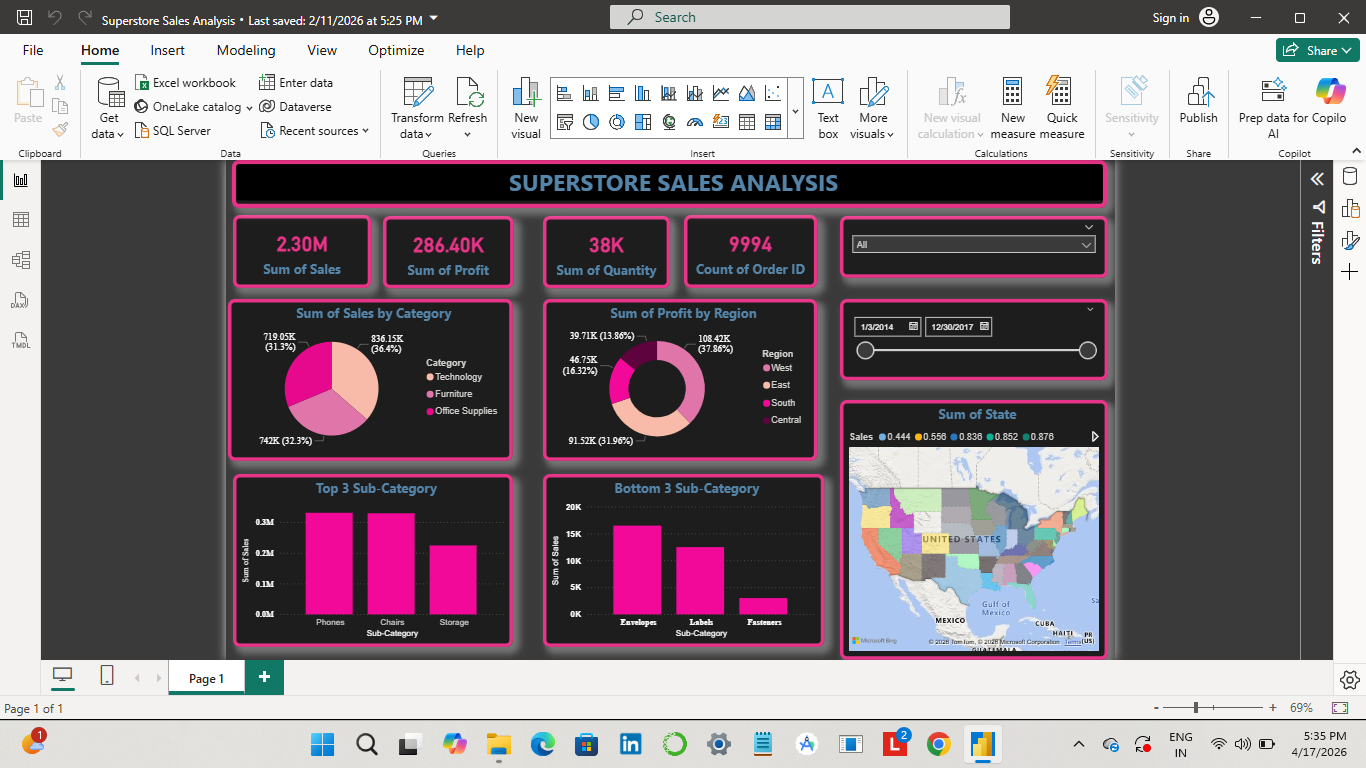

The page's visual inventory and layout, read from the dashboard file:
{"tool":"powerbi","page":{"name":"Page 1","canvas":[1280,720],"ordinal":0},"visuals":[{"type":"card","fields":{"Values":["Sum(Orders.Sales)"]},"box":[10.1,79.2,198.7,105.1],"z":0},{"type":"card","fields":{"Values":["Sum(Orders.Profit)"]},"box":[226.5,80.8,187.9,103.6],"z":1000},{"type":"card","fields":{"Values":["Sum(Orders.Quantity)"]},"box":[456.5,80.6,182.9,103.7],"z":2000},{"type":"pieChart","fields":{"Category":["Orders.Category"],"Y":["Sum(Orders.Sales)"]},"box":[2.9,200.2,410.4,233.3],"z":3000},{"type":"donutChart","fields":{"Category":["Orders.Region"],"Y":["Sum(Orders.Profit)"]},"box":[456.5,200.2,394.6,233.3],"z":4000},{"type":"columnChart","title":"Top 3 Sub-Category","fields":{"Category":["Orders.Sub-Category"],"Y":["Sum(Orders.Sales)"]},"box":[10.1,452.2,403.2,249.1],"z":5000},{"type":"columnChart","title":"Bottom 3 Sub-Category","fields":{"Category":["Orders.Sub-Category"],"Y":["Sum(Orders.Sales)"]},"box":[456.5,452.2,404.6,249.1],"z":6000},{"type":"filledMap","title":"Sum of State ","fields":{"Category":["Orders.State"],"Series":["Orders.Sales"]},"box":[884.2,345.6,385.9,374.4],"z":7000},{"type":"card","fields":{"Values":["CountNonNull(Orders.Order ID)"]},"box":[659.5,79.2,191.5,105.1],"z":8000},{"type":"slicer","fields":{"Values":["Orders.Segment"]},"box":[884.2,80.6,385.9,89.3],"z":9000},{"type":"slicer","fields":{"Values":["Orders.Order Date"]},"box":[884.2,200.2,385.9,116.6],"z":10000},{"type":"textbox","title":"SUPERSTORE SALES ANALYSIS","box":[8.6,0,1260,69.1],"z":11000}]}

Visuals, with their boxes on the page's 1280x720 design canvas (x1, y1, x2, y2). These are canvas units, not pixel positions in the 1366x768 screenshot, which may show the page scaled, cropped or inside an application window:
card - Sum(Orders.Sales): 10 79 209 184
card - Sum(Orders.Profit): 226 81 414 184
card - Sum(Orders.Quantity): 456 81 639 184
pieChart - Orders.Category x Sum(Orders.Sales): 3 200 413 434
donutChart - Orders.Region x Sum(Orders.Profit): 456 200 851 434
"Top 3 Sub-Category" columnChart: 10 452 413 701
"Bottom 3 Sub-Category" columnChart: 456 452 861 701
"Sum of State " filledMap: 884 346 1270 720
card - CountNonNull(Orders.Order ID): 660 79 851 184
slicer - Orders.Segment: 884 81 1270 170
slicer - Orders.Order Date: 884 200 1270 317
"SUPERSTORE SALES ANALYSIS" textbox: 9 0 1269 69
